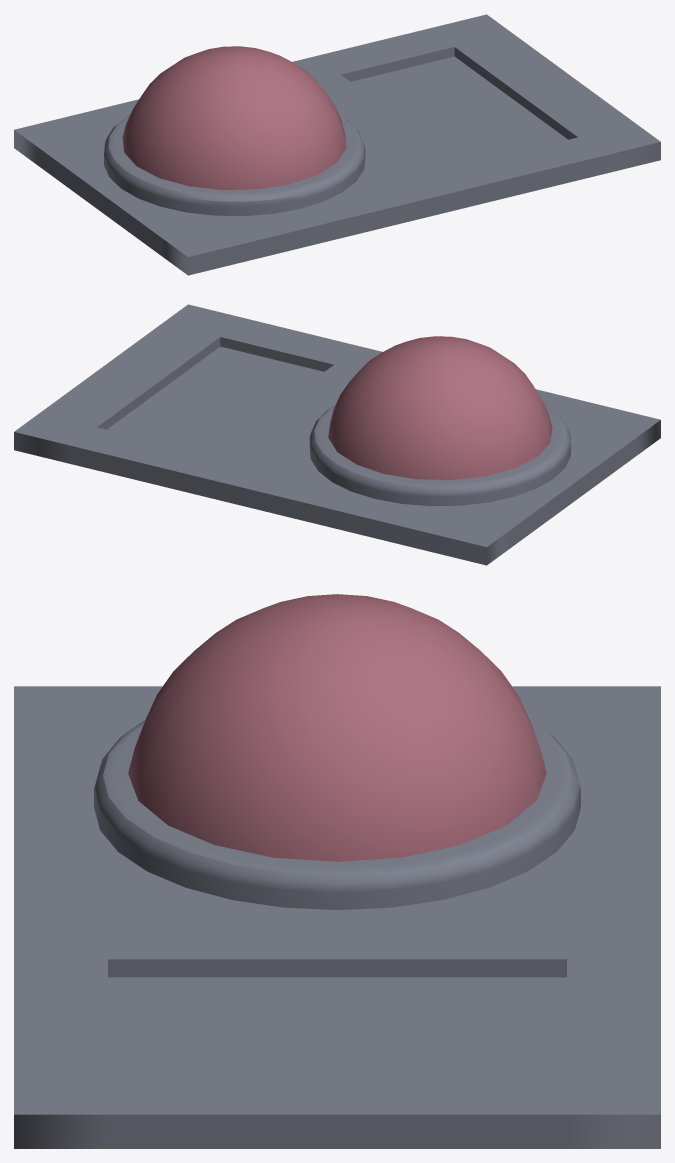
File: BotonPuzzle_low.fbx
The picture shows the model from 3 angles, top to bottom: view 1: azimuth 30°, elevation 25°; view 2: azimuth 150°, elevation 25°; view 3: azimuth 270°, elevation 25°; orthographic projection. The views are drawn at different scales.
Visible parts, largest first — view 1: BaseMetal_low, Boton_low, AroMetal_low; view 2: BaseMetal_low, Boton_low, AroMetal_low; view 3: BaseMetal_low, Boton_low, AroMetal_low.
Boxes of the visible parts, x1=… form: BaseMetal_low: x1=14, y1=14, x2=660, y2=275; Boton_low: x1=122, y1=46, x2=346, y2=189; AroMetal_low: x1=104, y1=113, x2=365, y2=216; BaseMetal_low: x1=14, y1=304, x2=660, y2=565; Boton_low: x1=328, y1=336, x2=552, y2=479; AroMetal_low: x1=309, y1=403, x2=570, y2=506; BaseMetal_low: x1=14, y1=686, x2=660, y2=1148; Boton_low: x1=128, y1=594, x2=546, y2=861; AroMetal_low: x1=94, y1=720, x2=580, y2=910.
Bounding box in the file's own units: 4.16 × 1.03 × 2.66.
